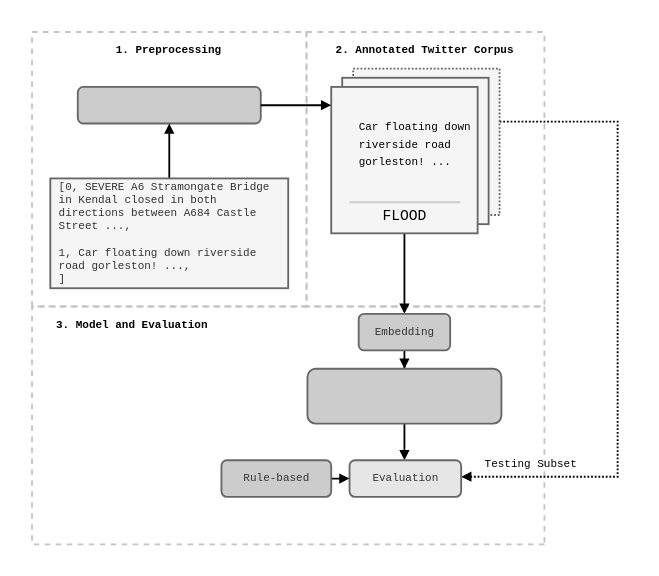
Image size: 659x576. Some labels were removed from this diagram. Here are the shapes that lost their labels. From the top down, the centre of each, then its label:
At point (168, 104): "Regex cleaning".
At point (403, 395): "Classification Model".
